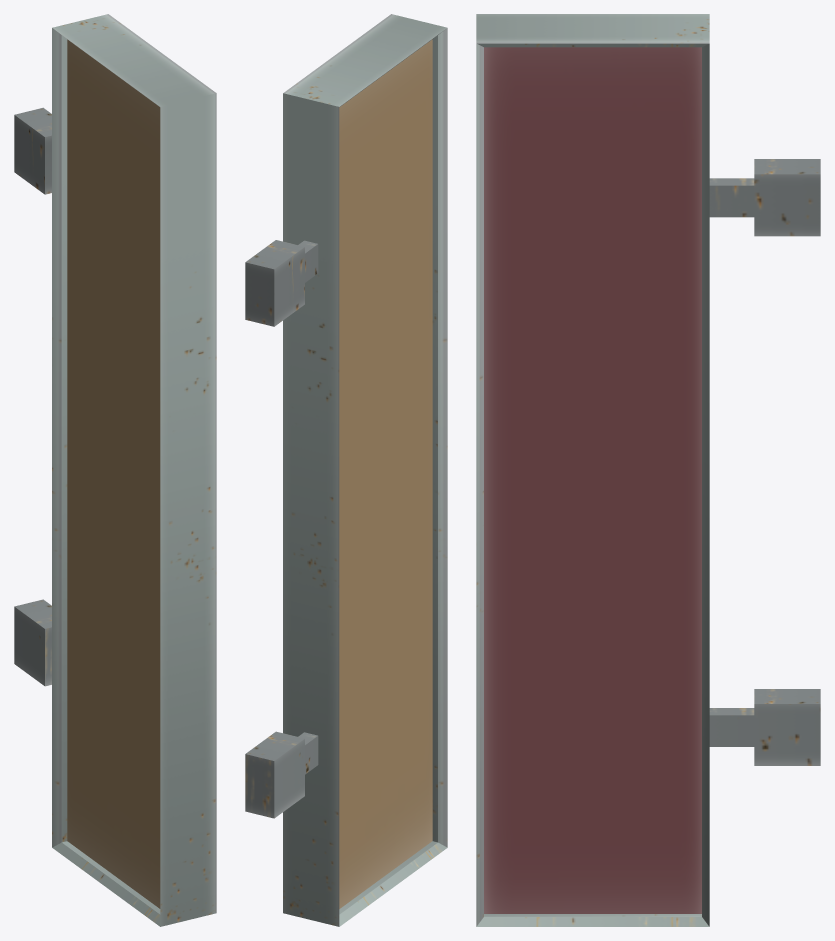
The model's file is bil_m_signbrd_a02.fbx.
3 views of the same model, side by side, from view 1: azimuth 30°, elevation 25°; view 2: azimuth 150°, elevation 25°; view 3: azimuth 270°, elevation 25° (orthographic). The views are drawn at different scales.
Parts seen in each view (by area): view 1: bil_m_signbrd_a02; view 2: bil_m_signbrd_a02; view 3: bil_m_signbrd_a02.
Boxes of the visible parts, x1,y1,x2,y2 form: bil_m_signbrd_a02: [14, 14, 216, 926]; bil_m_signbrd_a02: [245, 14, 447, 926]; bil_m_signbrd_a02: [476, 14, 820, 926].
Bounding box in the file's own units: 19.79 × 275 × 97.2.
